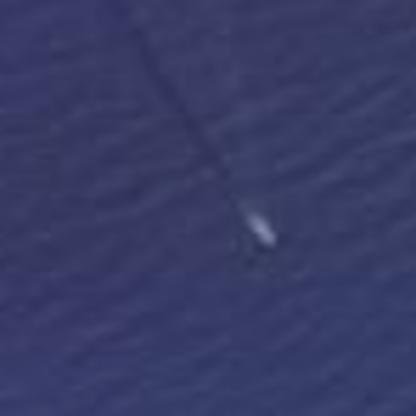ship: (234, 206, 284, 256)
